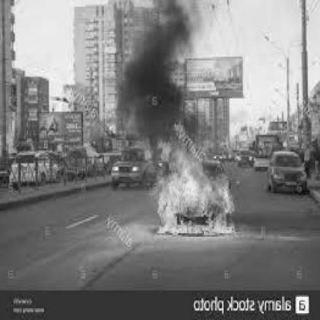Smoke: (123, 7, 205, 155)
